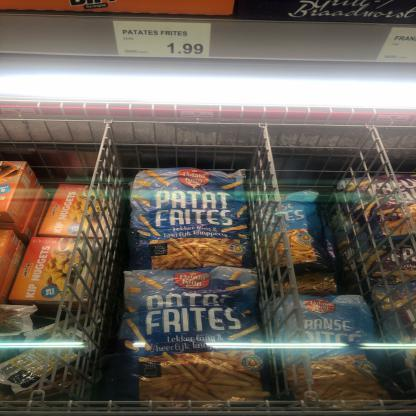prtg: (113, 21, 212, 58)
